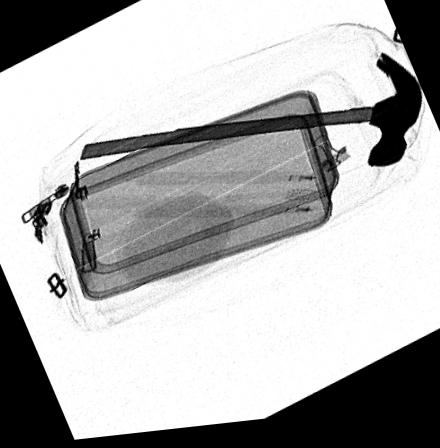Hammer: (77, 60, 421, 176)
